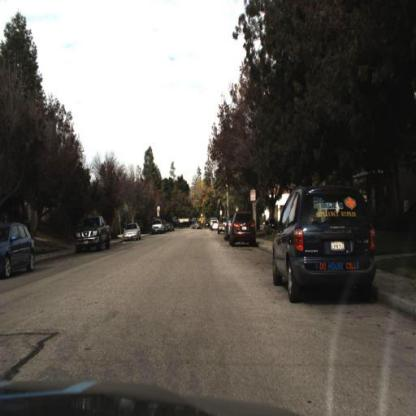car: (269, 182, 379, 304), (0, 219, 36, 281), (72, 204, 114, 255), (73, 214, 113, 256), (229, 207, 258, 248), (227, 209, 257, 248), (119, 219, 141, 244), (216, 212, 229, 239), (186, 216, 204, 234), (149, 219, 163, 237)
